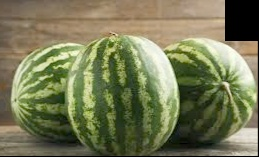watermelon: (67, 32, 178, 154), (11, 37, 93, 146), (177, 39, 256, 150)
